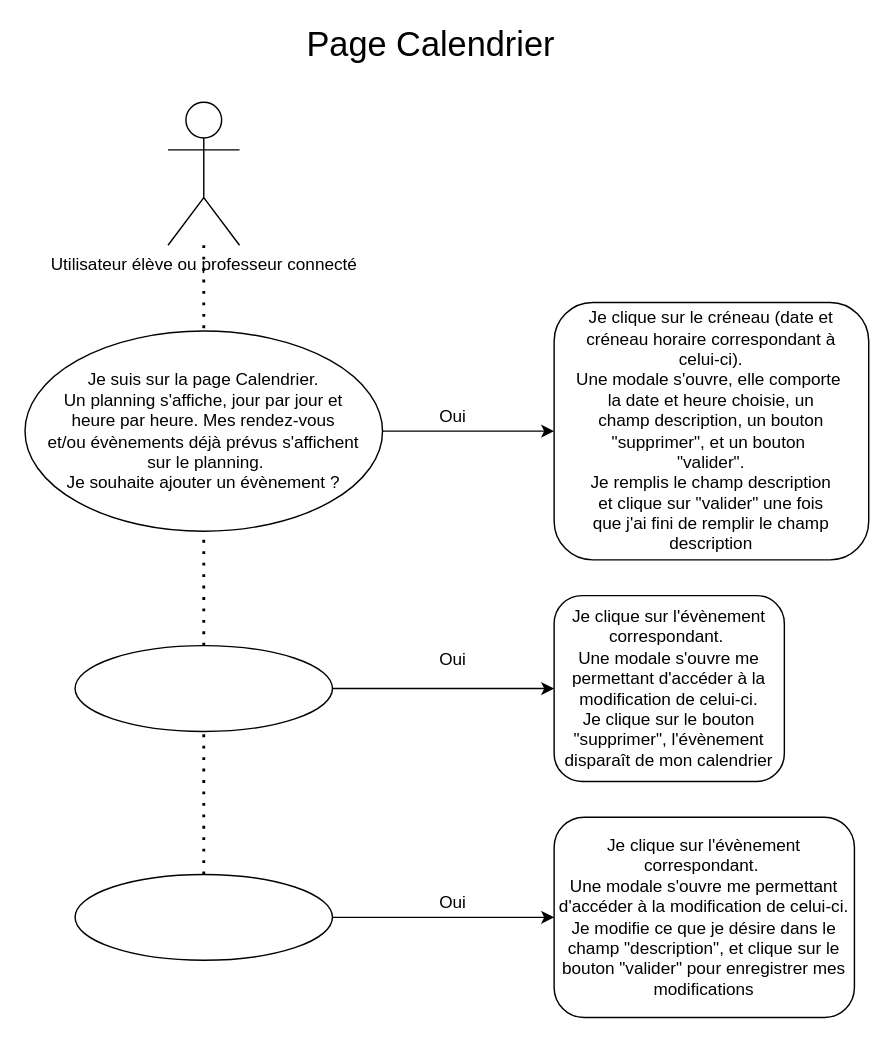
This 894x1042 diagram has some shape labels left out. The box of each missing label's shape, as (x1, y1, x2, y2) in pixels:
Je souhaite modifier un évènement déjà existant?: (74, 873, 332, 960)
Je souhaite supprimer un évènement déjà existant?: (74, 644, 332, 731)
